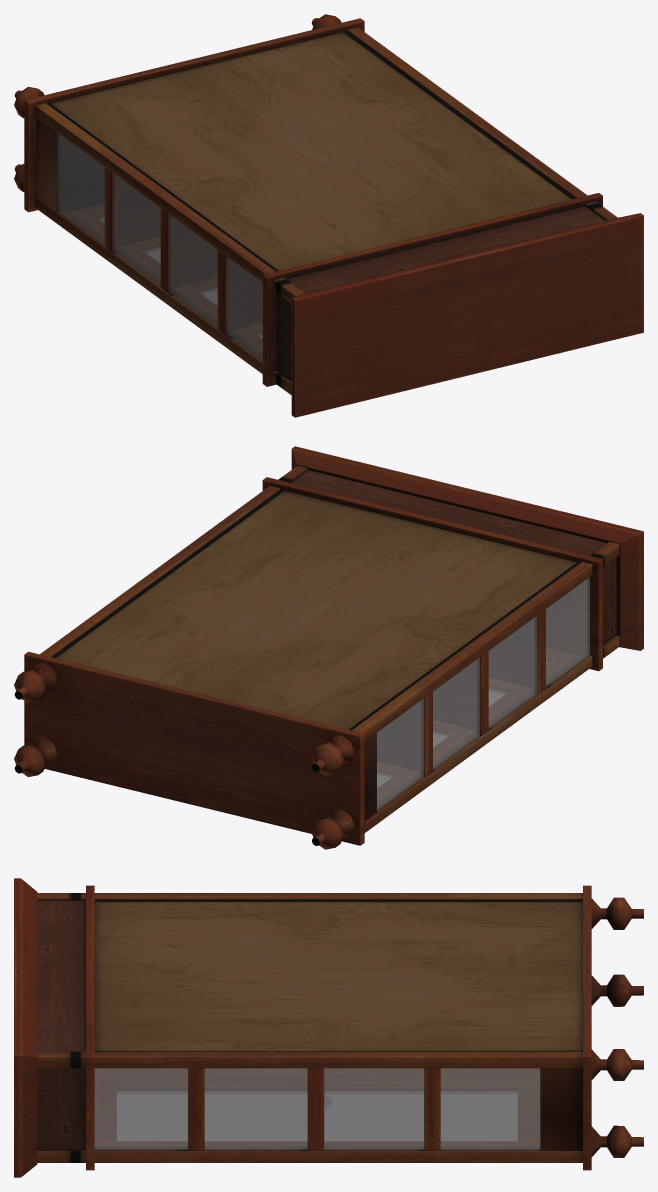
The model's file is 10224_Curio_Cabinet_ Glass_Front_v3_iterations-0.obj.
The picture shows the model from 3 angles, top to bottom: view 1: azimuth 30°, elevation 25°; view 2: azimuth 150°, elevation 25°; view 3: azimuth 270°, elevation 25°; orthographic projection. The views are drawn at different scales.
Parts seen in each view (by area): view 1: 10224_Curio_Cabinet__Glass_Front_v1_SG, 10224_Curio_Cabinet__Glass_Front__Glass_Front_v1_glass_SG, 10224_Curio_Cabinet__Glass_Front_v1_door2_SG; view 2: 10224_Curio_Cabinet__Glass_Front_v1_SG, 10224_Curio_Cabinet__Glass_Front__Glass_Front_v1_glass_SG, 10224_Curio_Cabinet__Glass_Front_v1_door2_SG; view 3: 10224_Curio_Cabinet__Glass_Front_v1_SG, 10224_Curio_Cabinet__Glass_Front__Glass_Front_v1_glass_SG, 10224_Curio_Cabinet__Glass_Front_v1_glass_door1_SG, 10224_Curio_Cabinet__Glass_Front_v1_door1_SG, 10224_Curio_Cabinet__Glass_Front_v1_door2_SG.
Boxes of the visible parts, bbox=[...] form: 10224_Curio_Cabinet__Glass_Front_v1_SG: bbox=[14, 14, 643, 417]; 10224_Curio_Cabinet__Glass_Front__Glass_Front_v1_glass_SG: bbox=[57, 133, 262, 360]; 10224_Curio_Cabinet__Glass_Front_v1_door2_SG: bbox=[70, 204, 262, 352]; 10224_Curio_Cabinet__Glass_Front_v1_SG: bbox=[14, 446, 643, 849]; 10224_Curio_Cabinet__Glass_Front__Glass_Front_v1_glass_SG: bbox=[377, 577, 589, 810]; 10224_Curio_Cabinet__Glass_Front_v1_door2_SG: bbox=[377, 648, 577, 802]; 10224_Curio_Cabinet__Glass_Front_v1_SG: bbox=[14, 878, 643, 1177]; 10224_Curio_Cabinet__Glass_Front__Glass_Front_v1_glass_SG: bbox=[94, 1068, 540, 1149]; 10224_Curio_Cabinet__Glass_Front_v1_glass_door1_SG: bbox=[117, 1092, 517, 1140]; 10224_Curio_Cabinet__Glass_Front_v1_door1_SG: bbox=[95, 1074, 539, 1145]; 10224_Curio_Cabinet__Glass_Front_v1_door2_SG: bbox=[95, 1068, 539, 1073].
Size of the model in its own units: 132 by 45 by 198.
